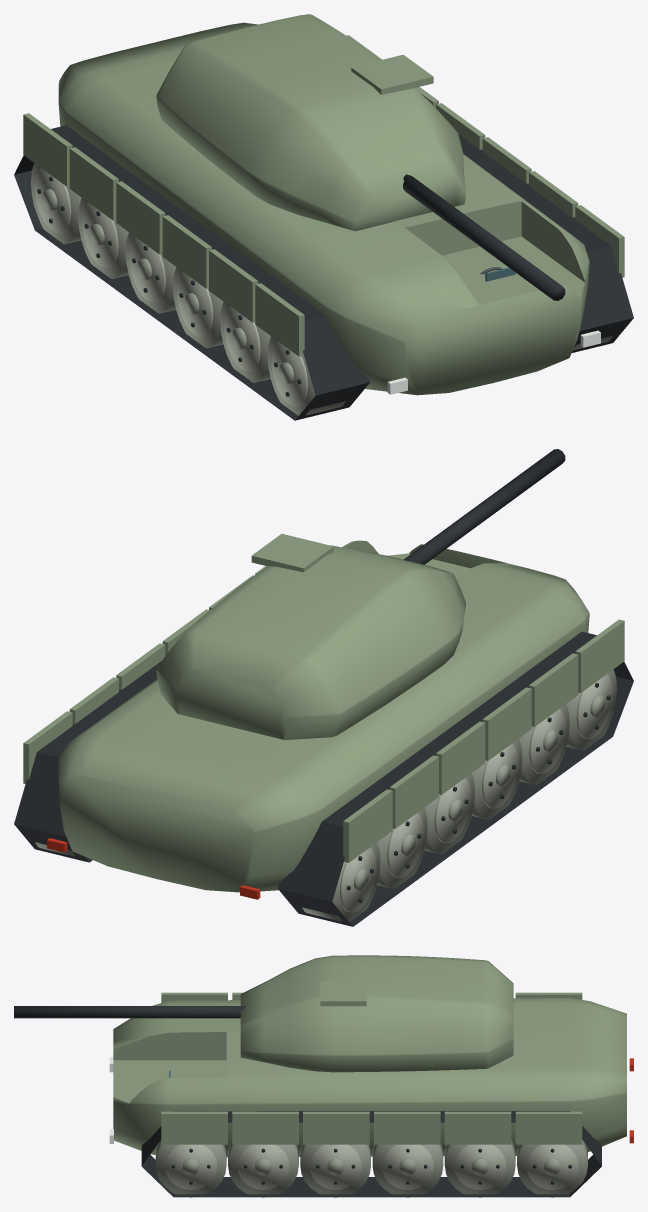
Rendered from fleet-type100.glb.
3 views of the same model, one above another, from view 1: azimuth 30°, elevation 25°; view 2: azimuth 150°, elevation 25°; view 3: azimuth 270°, elevation 25° (orthographic). The views are drawn at different scales.
Parts seen in each view (by area): view 1: Body, Surface_CarRoot_Paint, TrackBeltR, TrackBeltL, DisplayBarrel, WheelRoad1R_Plate, WheelFrontR_Plate, WheelRoad3R_Plate, WheelRoad4R_Plate, WheelRoad2R_Plate, WheelRearR_Plate, Surface_WheelRoad4R_RoadWheelSteel (+5 smaller); view 2: Body, Surface_CarRoot_Paint, TrackBeltR, TrackBeltL, DisplayBarrel, WheelRearR_Plate, WheelRoad2R_Plate, WheelRoad4R_Plate, WheelRoad1R_Plate, WheelRoad3R_Plate, WheelFrontR_Plate, Surface_WheelRoad1R_RoadWheelSteel (+5 smaller); view 3: Surface_CarRoot_Paint, Body, TrackBeltL, DisplayBarrel, WheelRoad2L_Plate, WheelFrontL_Plate, WheelRoad1L_Plate, WheelRearL_Plate, WheelRoad4L_Plate, WheelRoad3L_Plate, Surface_WheelRoad4L_RoadWheelSteel, Surface_WheelFrontL_RoadWheelSteel (+4 smaller).
Boxes of the visible parts, bbox=[...] form: Body: bbox=[58, 22, 589, 395]; Surface_CarRoot_Paint: bbox=[23, 14, 624, 356]; TrackBeltR: bbox=[14, 125, 370, 420]; TrackBeltL: bbox=[458, 134, 633, 352]; DisplayBarrel: bbox=[403, 174, 565, 300]; WheelRoad1R_Plate: bbox=[224, 306, 260, 371]; WheelFrontR_Plate: bbox=[271, 341, 307, 406]; WheelRoad3R_Plate: bbox=[129, 237, 165, 302]; WheelRoad4R_Plate: bbox=[82, 203, 118, 267]; WheelRoad2R_Plate: bbox=[176, 272, 213, 336]; WheelRearR_Plate: bbox=[34, 168, 71, 232]; Surface_WheelRoad4R_RoadWheelSteel: bbox=[78, 198, 128, 278]; Body: bbox=[58, 540, 589, 892]; Surface_CarRoot_Paint: bbox=[23, 533, 624, 862]; TrackBeltR: bbox=[277, 631, 633, 926]; TrackBeltL: bbox=[14, 661, 161, 862]; DisplayBarrel: bbox=[403, 449, 565, 564]; WheelRearR_Plate: bbox=[340, 847, 376, 912]; WheelRoad2R_Plate: bbox=[482, 743, 518, 808]; WheelRoad4R_Plate: bbox=[387, 813, 423, 877]; WheelRoad1R_Plate: bbox=[529, 709, 565, 773]; WheelRoad3R_Plate: bbox=[434, 778, 471, 843]; WheelFrontR_Plate: bbox=[576, 674, 613, 739]; Surface_WheelRoad1R_RoadWheelSteel: bbox=[519, 704, 569, 784]; Surface_CarRoot_Paint: bbox=[161, 955, 582, 1144]; Body: bbox=[113, 998, 626, 1157]; TrackBeltL: bbox=[141, 1111, 601, 1197]; DisplayBarrel: bbox=[14, 1006, 246, 1018]; WheelRoad2L_Plate: bbox=[309, 1144, 361, 1189]; WheelFrontL_Plate: bbox=[165, 1144, 217, 1189]; WheelRoad1L_Plate: bbox=[237, 1144, 289, 1189]; WheelRearL_Plate: bbox=[526, 1144, 578, 1189]; WheelRoad4L_Plate: bbox=[454, 1144, 506, 1189]; WheelRoad3L_Plate: bbox=[381, 1144, 434, 1189]; Surface_WheelRoad4L_RoadWheelSteel: bbox=[444, 1140, 515, 1197]; Surface_WheelFrontL_RoadWheelSteel: bbox=[155, 1140, 226, 1197].
Size of the model in its own units: 4.05 by 2.62 by 8.75.
